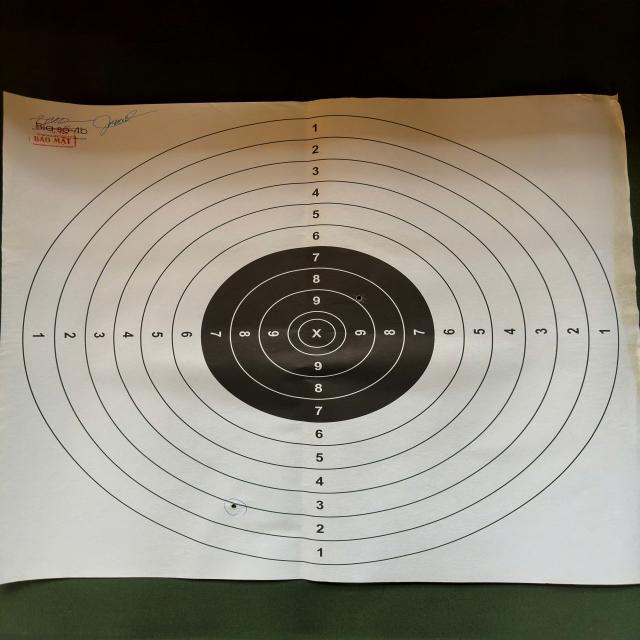bullet: (355, 295, 364, 302), (232, 503, 238, 510)
target: (3, 92, 637, 584)
